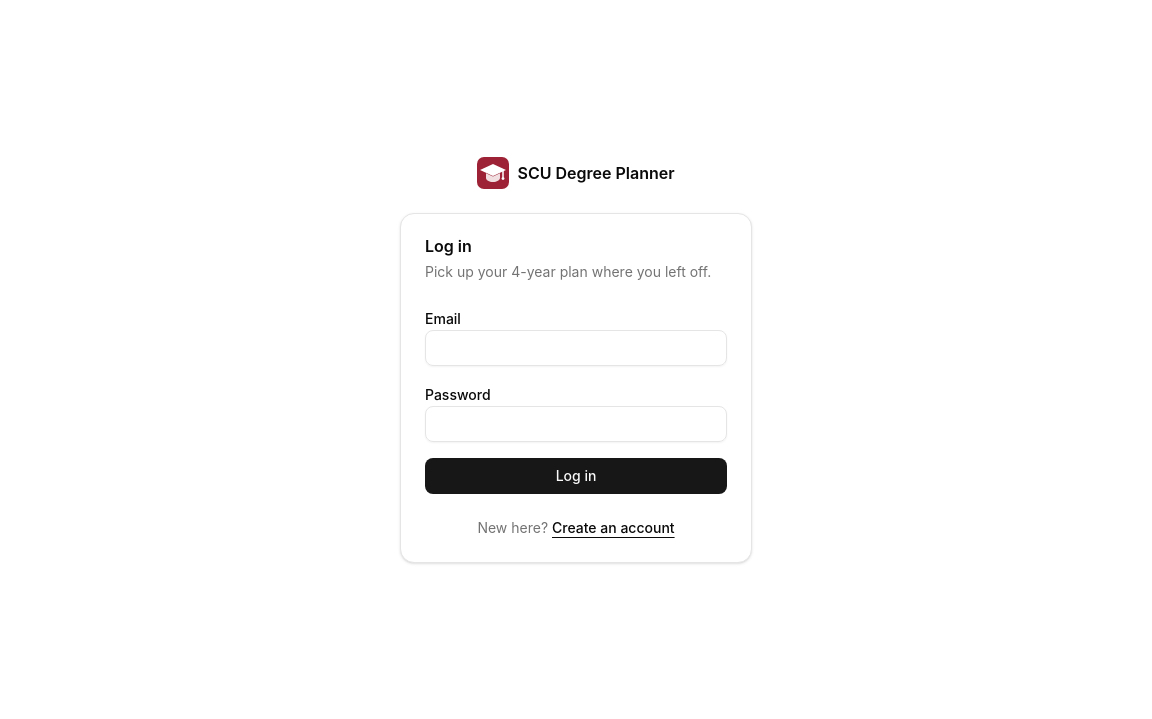
Test: accounts › logs in and shows the plan with the email and a Log out button
Expected: the heading "Log in" is shown, 425,236 -> 472,256
Type "ana@scu.edu" into the field labelled "Email".
click(576, 348); type("ana@scu.edu")  # box 425,330 -> 727,366
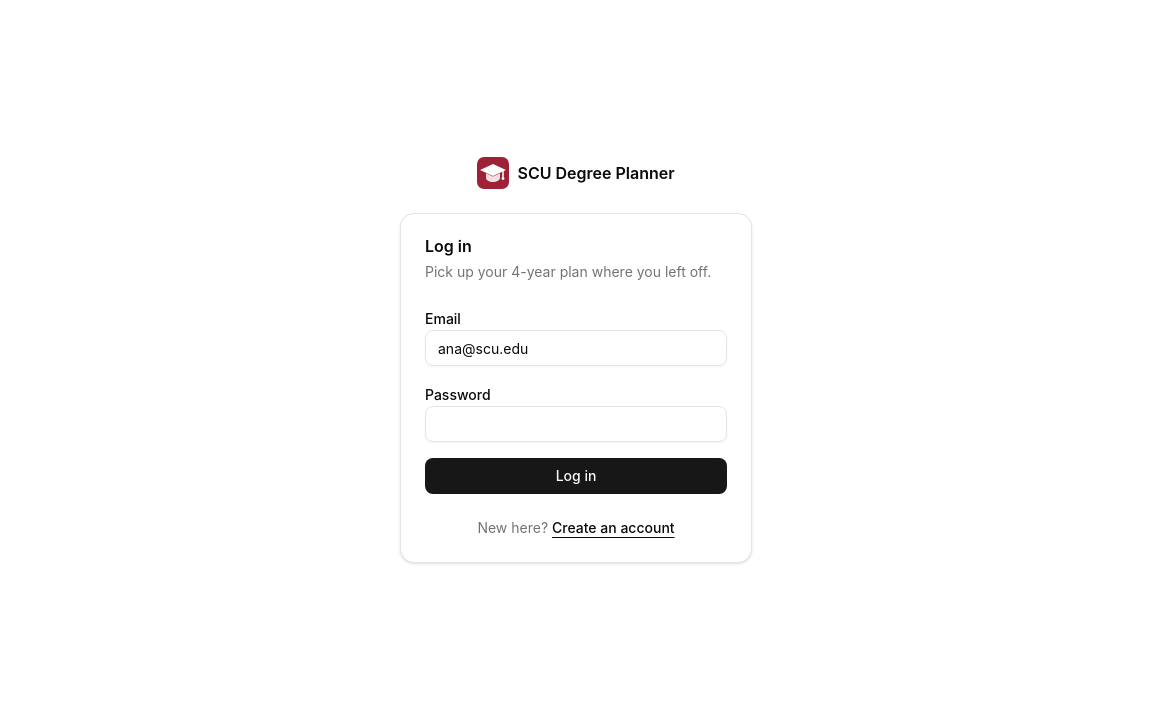
Type "correct horse" into the password field labelled "Password".
click(576, 424); type("correct horse")  # box 425,406 -> 727,442
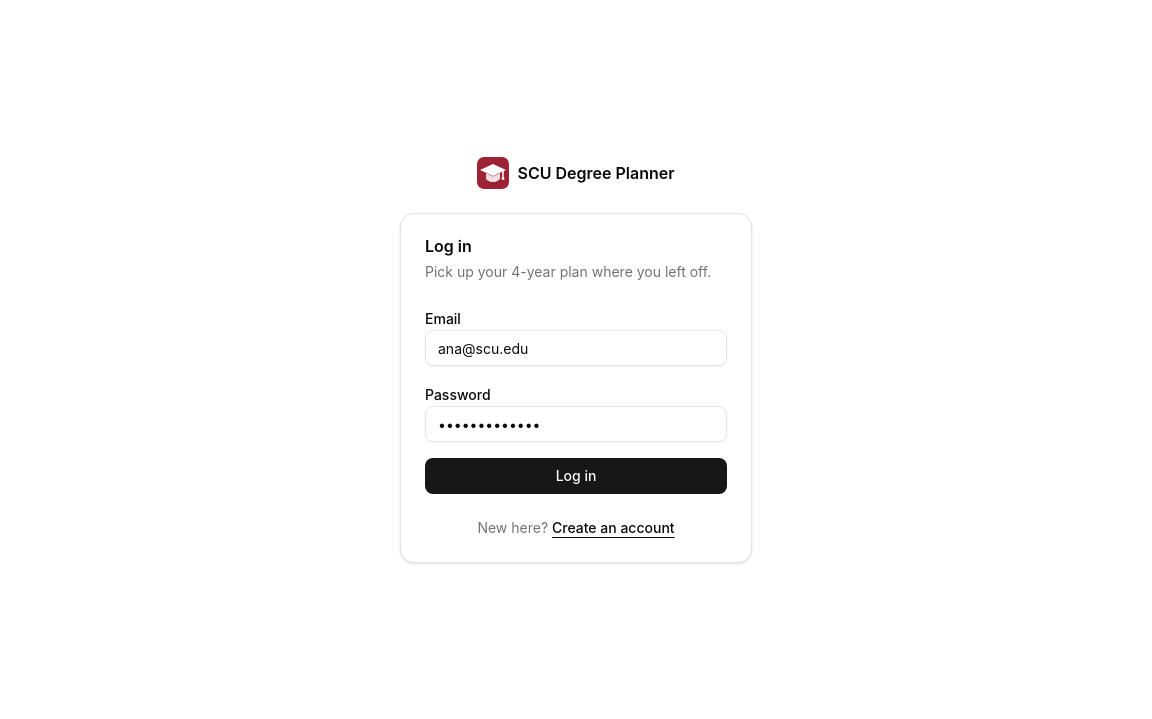
Click the button "Log in".
click(576, 476)  # box 425,458 -> 727,494
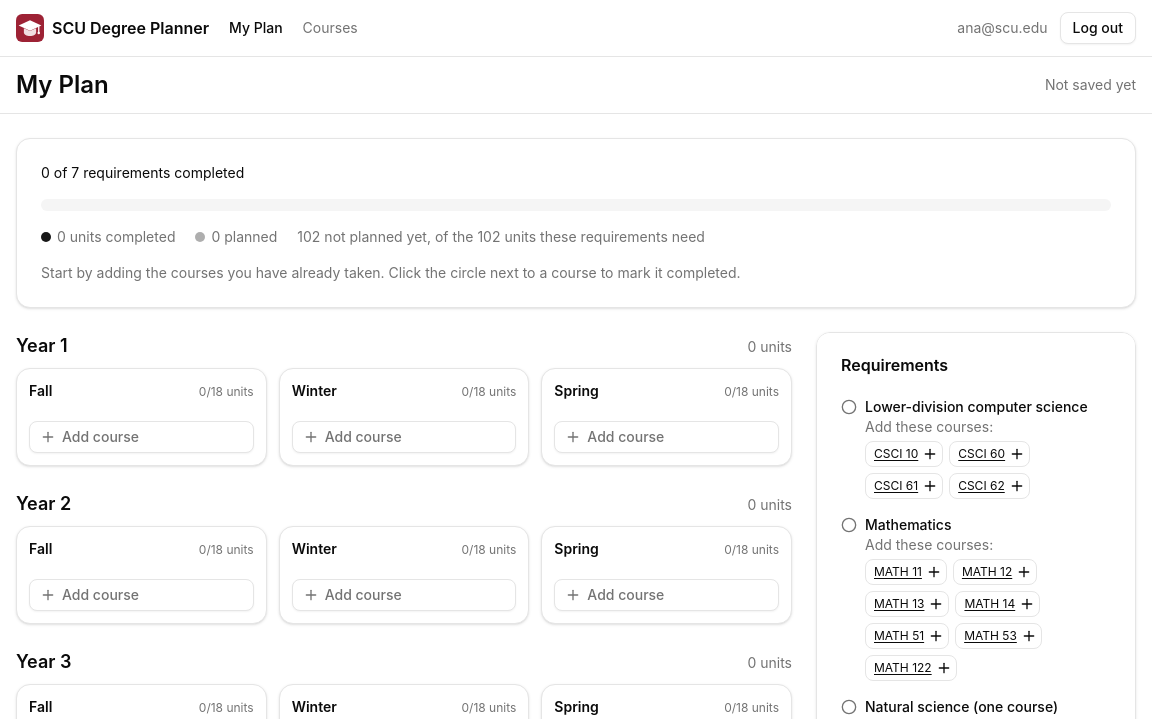
Expected: the heading "My Plan" is shown, 16,69 -> 109,101
Expected: the text "ana@scu.edu" is shown, 957,18 -> 1048,38
Expected: the button "Log out" is shown, 1060,12 -> 1136,44
